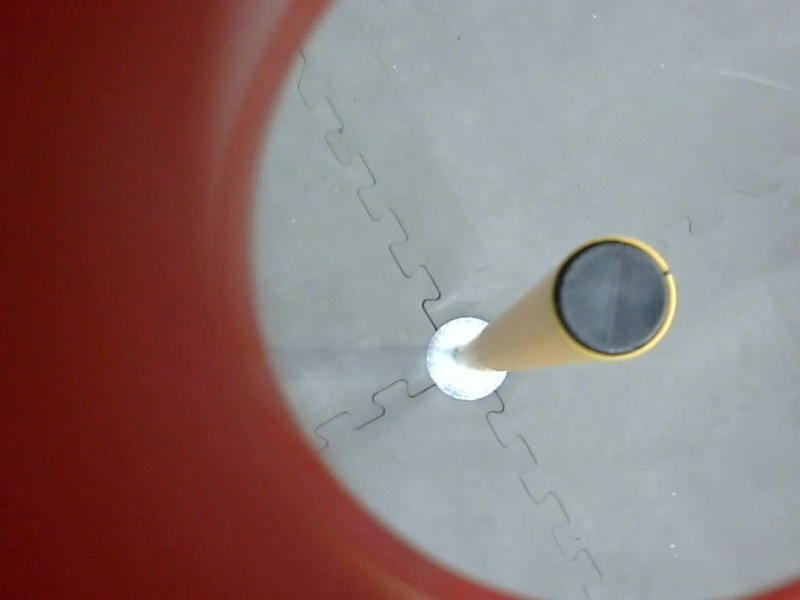tip: (545, 229, 685, 369)
